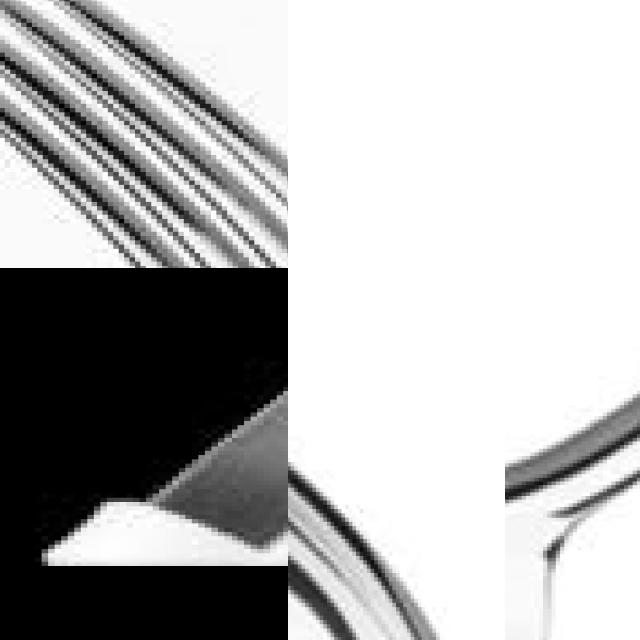forks: (0, 268, 288, 616), (0, 0, 288, 268)
spoons: (288, 425, 547, 640)
